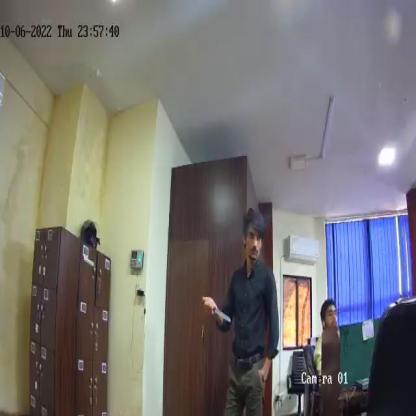Knife: (204, 294, 232, 324)
